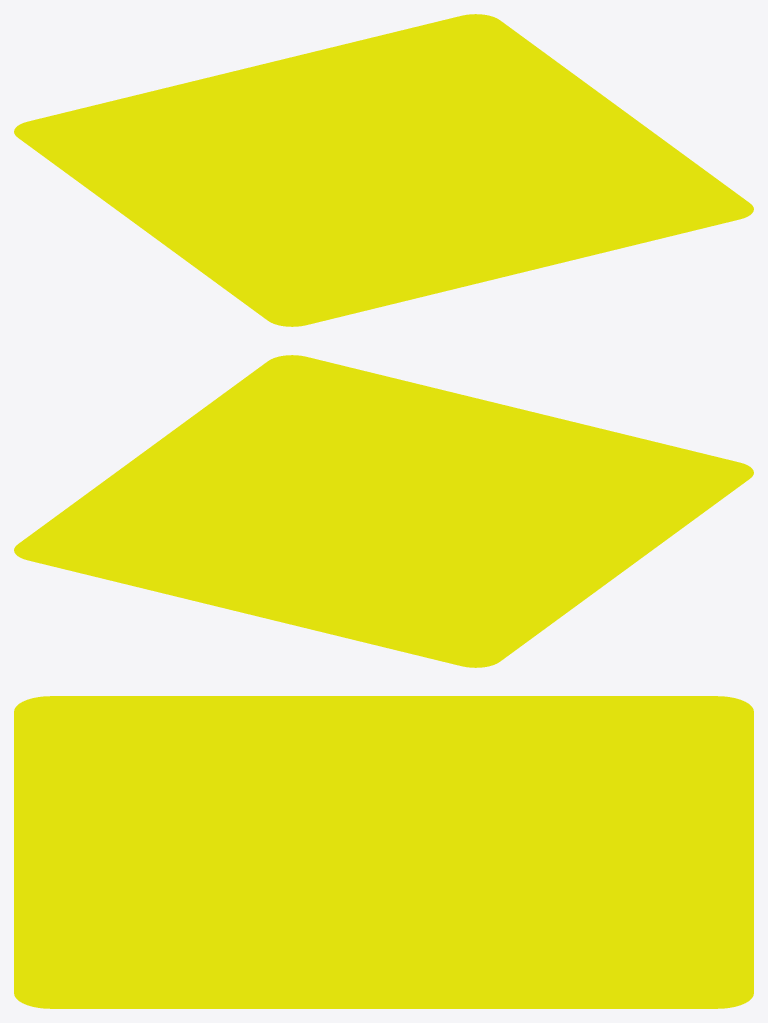
Rendered from Polyomino.fbx.
The picture shows the model from 3 angles, top to bottom: view 1: azimuth 30°, elevation 25°; view 2: azimuth 150°, elevation 25°; view 3: azimuth 270°, elevation 25°; orthographic projection. The views are drawn at different scales.
Parts seen in each view (by area): view 1: Polyomino; view 2: Polyomino; view 3: Polyomino.
Boxes of the visible parts, x1=… form: Polyomino: x1=14, y1=14, x2=753, y2=326; Polyomino: x1=14, y1=355, x2=753, y2=667; Polyomino: x1=14, y1=696, x2=753, y2=1008.
Size of the model in its own units: 0.02 by 0 by 0.02.
